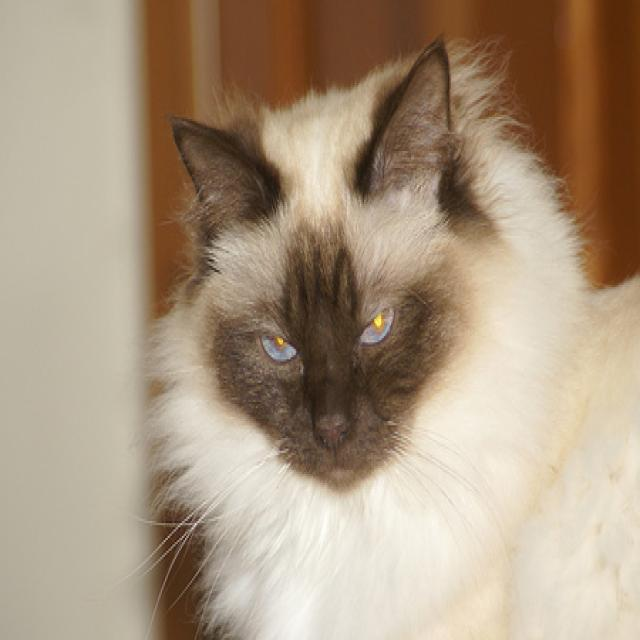Birman: (135, 30, 640, 640)
